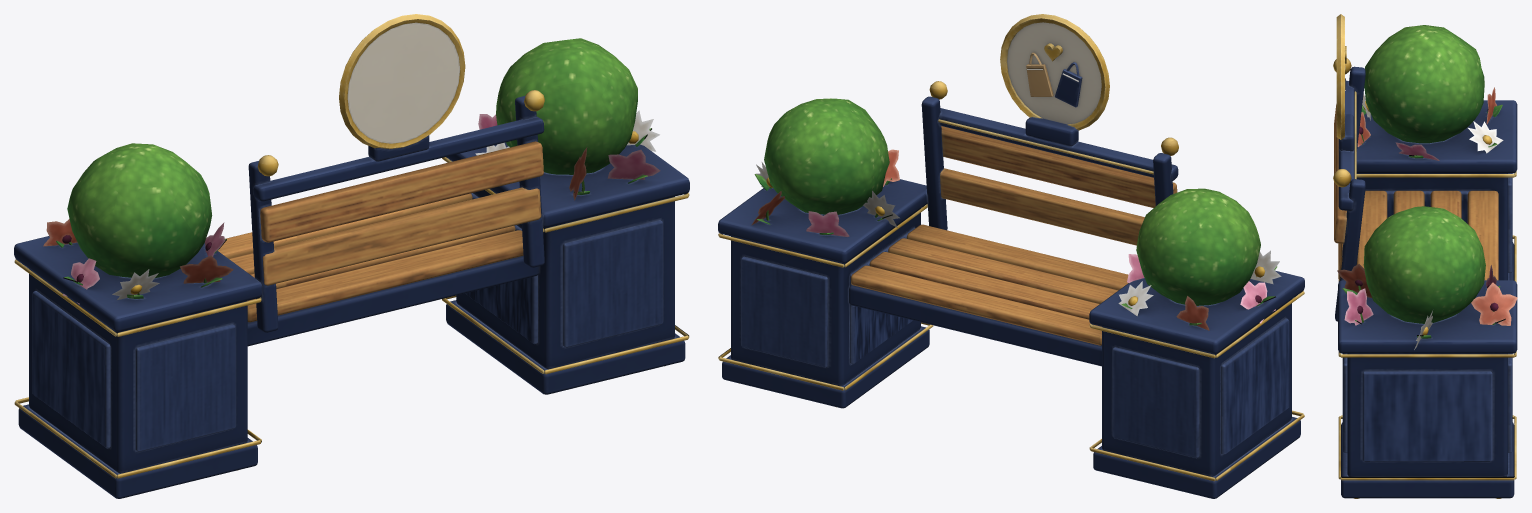
Rendered from invite-reward-1.fbx.
3 renders of one model, left to right at view 1: azimuth 30°, elevation 25°; view 2: azimuth 150°, elevation 25°; view 3: azimuth 270°, elevation 25°, orthographic. The views are drawn at different scales.
Parts seen in each view (by area): view 1: Body; view 2: Body; view 3: Body.
Boxes of the visible parts, box(x1,y1,x2,y2) form: Body: box(14, 14, 689, 498); Body: box(718, 14, 1304, 498); Body: box(1333, 14, 1517, 498).
Bounding box in the file's own units: 1.93 × 1.3 × 0.5981.
